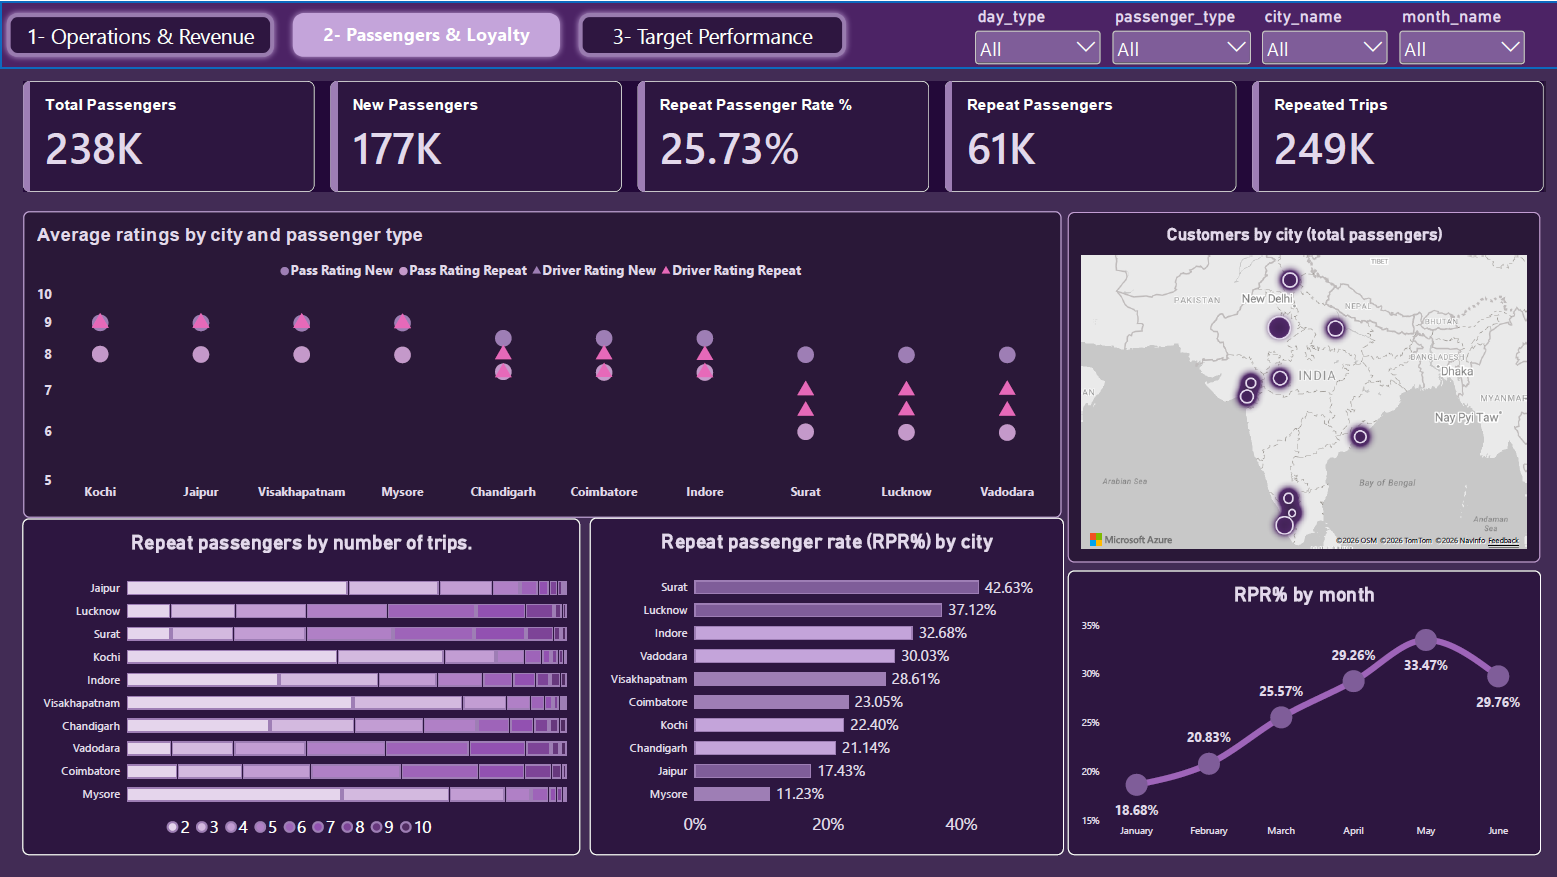

This screenshot's page, from the dashboard's own definition file:
{"tool":"powerbi","page":{"name":"2- Passengers & Loyalty","canvas":[1920,1080],"ordinal":1},"visuals":[{"type":"azureMap","title":"Customers by city (total passengers)","fields":{"Category":["dim_city.city_name"],"Size":["DAX.Total Passengers"],"X":["Avg(dim_city.City Lon)"],"Y":["Avg(dim_city.City Lat)"]},"box":[1312.9,258.6,581.4,431.4],"z":0},{"type":"shape","box":[0,0,1920,82],"z":1000},{"type":"pageNavigator","box":[0,6,1048,70],"z":2000},{"type":"cardVisual","fields":{"Data":["DAX.Total Passengers","DAX.New Passengers","DAX.Repeat Passenger Rate %","DAX.Repeat Passengers","DAX.Repeated Trips"]},"box":[28,98,1872,136],"z":3000},{"type":"lineChart","title":" Average ratings by city and passenger type","fields":{"Category":["dim_city.city_name"],"Y":["DAX.Pass Rating New","DAX.Pass Rating Repeat","DAX.Driver Rating New","DAX.Driver Rating Repeat"]},"box":[27.5,257.5,1277.5,377.5],"z":4000},{"type":"hundredPercentStackedBarChart","title":"Top and bottom 3 cities by total trips","fields":{"Category":["dim_city.city_name"],"Series":["dim_repeat_trip_distribution.trip_count.1"],"Y":["DAX.Repeat Dist"]},"box":[27.1,635.7,685.7,414.3],"z":5000},{"type":"slicer","fields":{"Values":["dim_date.month_name"]},"box":[1716,6,164,74],"z":6000},{"type":"slicer","fields":{"Values":["dim_city.city_name"]},"box":[1547.3,6,164,74],"z":7000},{"type":"slicer","fields":{"Values":["fact_trips.passenger_type"]},"box":[1362.7,6,180,74],"z":8000},{"type":"slicer","fields":{"Values":["dim_date.day_type"]},"box":[1194,6,164,74],"z":9000},{"type":"barChart","title":"Repeat passenger rate (RPR%) by city","fields":{"Category":["dim_city.city_name"],"Y":["DAX.Repeat Passenger Rate %"]},"box":[725,635,582.5,415],"z":10000},{"type":"lineChart","title":"RPR% by month","fields":{"Category":["dim_month.start_of_month.Variation.Date Hierarchy.Month"],"Y":["DAX.Repeat Passenger Rate %"]},"box":[1313.3,700,581.7,350],"z":11000}]}

Visuals, with their boxes in screenshot pixels (x1, y1, x2, y2), scaled from the page's 1920x1080 canvas onto the 1557x877 screenshot:
"Customers by city (total passengers)" azureMap: pyautogui.locateOnScreen(1065, 210, 1536, 560)
shape: pyautogui.locateOnScreen(0, 0, 1556, 67)
pageNavigator: pyautogui.locateOnScreen(0, 5, 850, 62)
cardVisual - DAX.Total Passengers x DAX.New Passengers: pyautogui.locateOnScreen(23, 80, 1541, 190)
" Average ratings by city and passenger type" lineChart: pyautogui.locateOnScreen(22, 209, 1058, 516)
"Top and bottom 3 cities by total trips" hundredPercentStackedBarChart: pyautogui.locateOnScreen(22, 516, 578, 853)
slicer - dim_date.month_name: pyautogui.locateOnScreen(1392, 5, 1525, 65)
slicer - dim_city.city_name: pyautogui.locateOnScreen(1255, 5, 1388, 65)
slicer - fact_trips.passenger_type: pyautogui.locateOnScreen(1105, 5, 1251, 65)
slicer - dim_date.day_type: pyautogui.locateOnScreen(968, 5, 1101, 65)
"Repeat passenger rate (RPR%) by city" barChart: pyautogui.locateOnScreen(588, 516, 1060, 853)
"RPR% by month" lineChart: pyautogui.locateOnScreen(1065, 568, 1537, 853)
